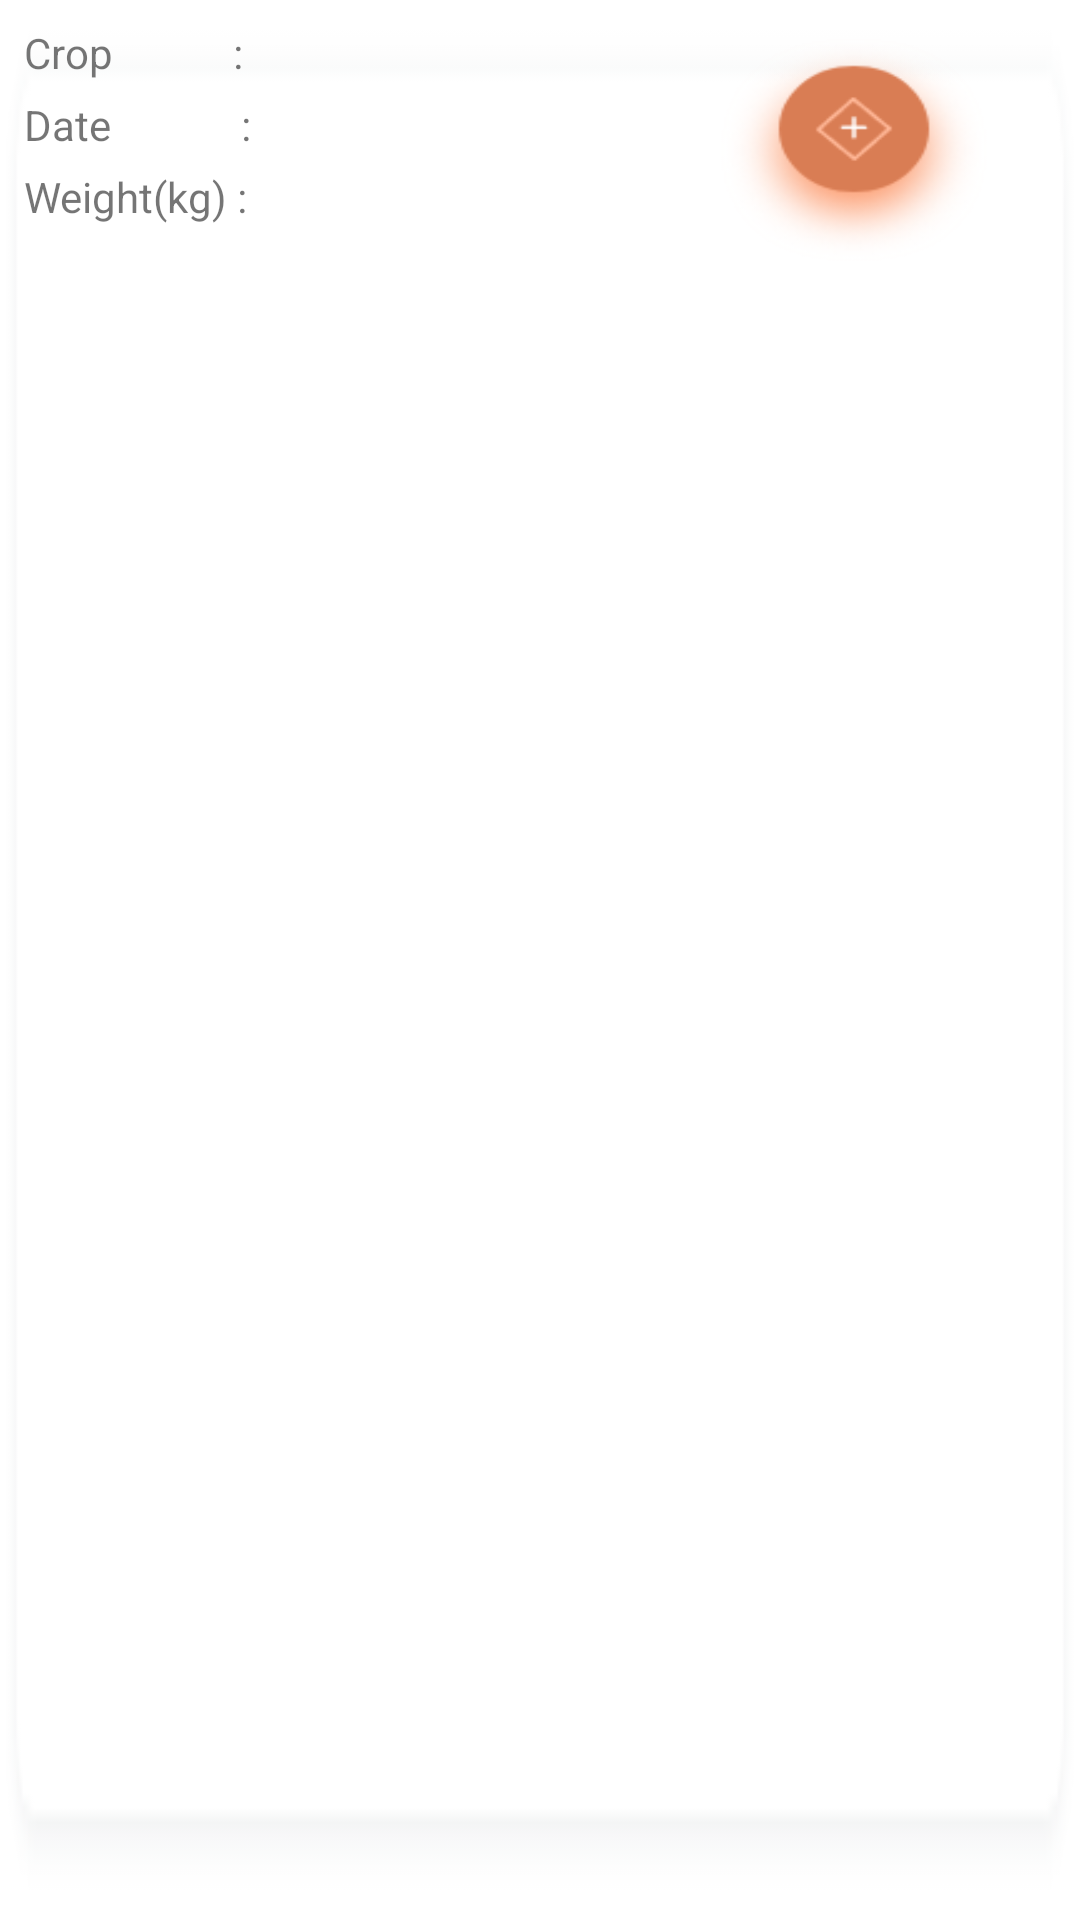

Named icons in this screenshot (1080w x 1920h) and their bounding boxes, Rect(x1, y1, x2, y2):
add: Rect(758, 65, 950, 231)
